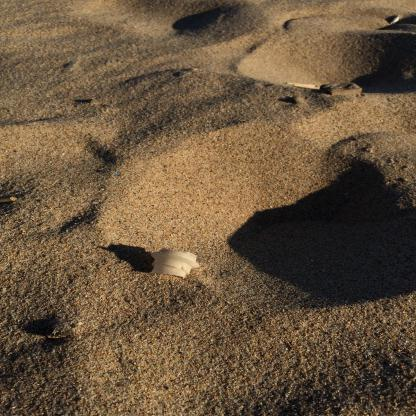plastik: (147, 247, 201, 278)
